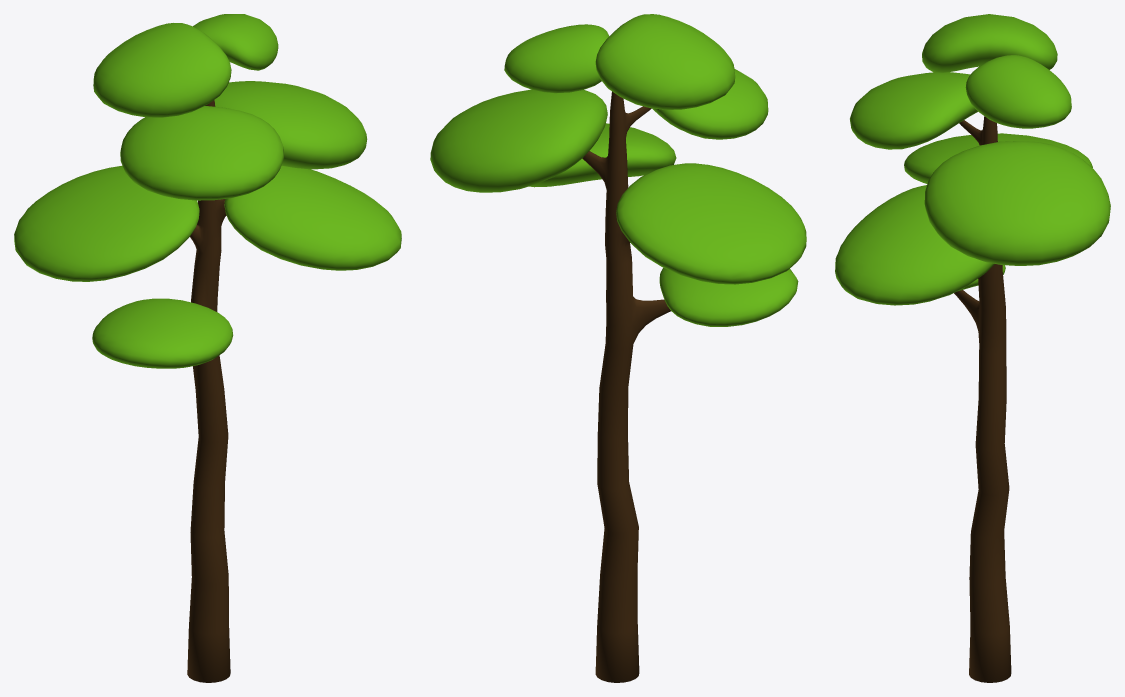
File: Tree_1.FBX
3 renders of one model, left to right at view 1: azimuth 30°, elevation 25°; view 2: azimuth 150°, elevation 25°; view 3: azimuth 270°, elevation 25°, orthographic. The views are drawn at different scales.
Visible parts, largest first — view 1: A1_Hojas3, A1, A1_Hojas1, A1_Hojas4, A1_Hojas5, A1_Hojas2, A1_Hojas7, A1_Hojas6; view 2: A1, A1_Hojas3, A1_Hojas2, A1_Hojas5, A1_Hojas7, A1_Hojas6, A1_Hojas4, A1_Hojas1; view 3: A1_Hojas2, A1, A1_Hojas1, A1_Hojas4, A1_Hojas6, A1_Hojas5, A1_Hojas3.
Part boxes in pixels (x1=…): A1_Hojas3: x1=14, y1=165, x2=199, y2=281; A1: x1=187, y1=100, x2=230, y2=682; A1_Hojas1: x1=224, y1=166, x2=401, y2=270; A1_Hojas4: x1=120, y1=106, x2=283, y2=200; A1_Hojas5: x1=93, y1=23, x2=231, y2=117; A1_Hojas2: x1=214, y1=81, x2=367, y2=169; A1_Hojas7: x1=92, y1=298, x2=233, y2=368; A1_Hojas6: x1=193, y1=14, x2=278, y2=70; A1: x1=582, y1=91, x2=670, y2=682; A1_Hojas3: x1=616, y1=163, x2=806, y2=284; A1_Hojas2: x1=430, y1=89, x2=607, y2=192; A1_Hojas5: x1=595, y1=14, x2=735, y2=109; A1_Hojas7: x1=659, y1=268, x2=798, y2=326; A1_Hojas6: x1=504, y1=24, x2=609, y2=93; A1_Hojas4: x1=652, y1=68, x2=768, y2=139; A1_Hojas1: x1=529, y1=123, x2=676, y2=187; A1_Hojas2: x1=924, y1=141, x2=1110, y2=265; A1: x1=954, y1=116, x2=1011, y2=682; A1_Hojas1: x1=835, y1=185, x2=994, y2=305; A1_Hojas4: x1=850, y1=72, x2=977, y2=149; A1_Hojas6: x1=965, y1=55, x2=1071, y2=128; A1_Hojas5: x1=922, y1=14, x2=1057, y2=72; A1_Hojas3: x1=904, y1=133, x2=1092, y2=183.
Size of the model in its own units: 567 by 1044 by 410.
